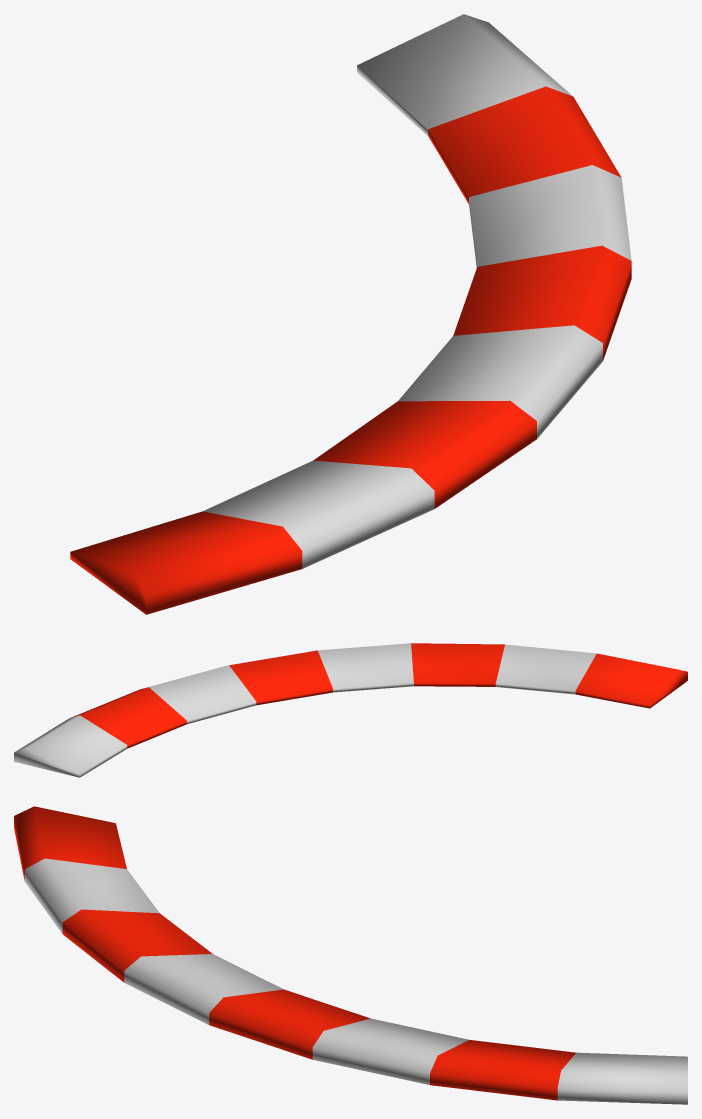
File: SM_Prop_Barrier_Curb_Bend_02.fbx
3 renders of one model, top to bottom at view 1: azimuth 30°, elevation 25°; view 2: azimuth 150°, elevation 25°; view 3: azimuth 270°, elevation 25°, orthographic. The views are drawn at different scales.
Parts seen in each view (by area): view 1: SM_Prop_Barrier_Curb_Bend_02; view 2: SM_Prop_Barrier_Curb_Bend_02; view 3: SM_Prop_Barrier_Curb_Bend_02.
Boxes of the visible parts, x1,y1,x2,y2 form: SM_Prop_Barrier_Curb_Bend_02: (70, 14, 631, 614); SM_Prop_Barrier_Curb_Bend_02: (14, 643, 687, 777); SM_Prop_Barrier_Curb_Bend_02: (14, 806, 687, 1104).
Bounding box in the file's own units: 518 × 19.13 × 534.
